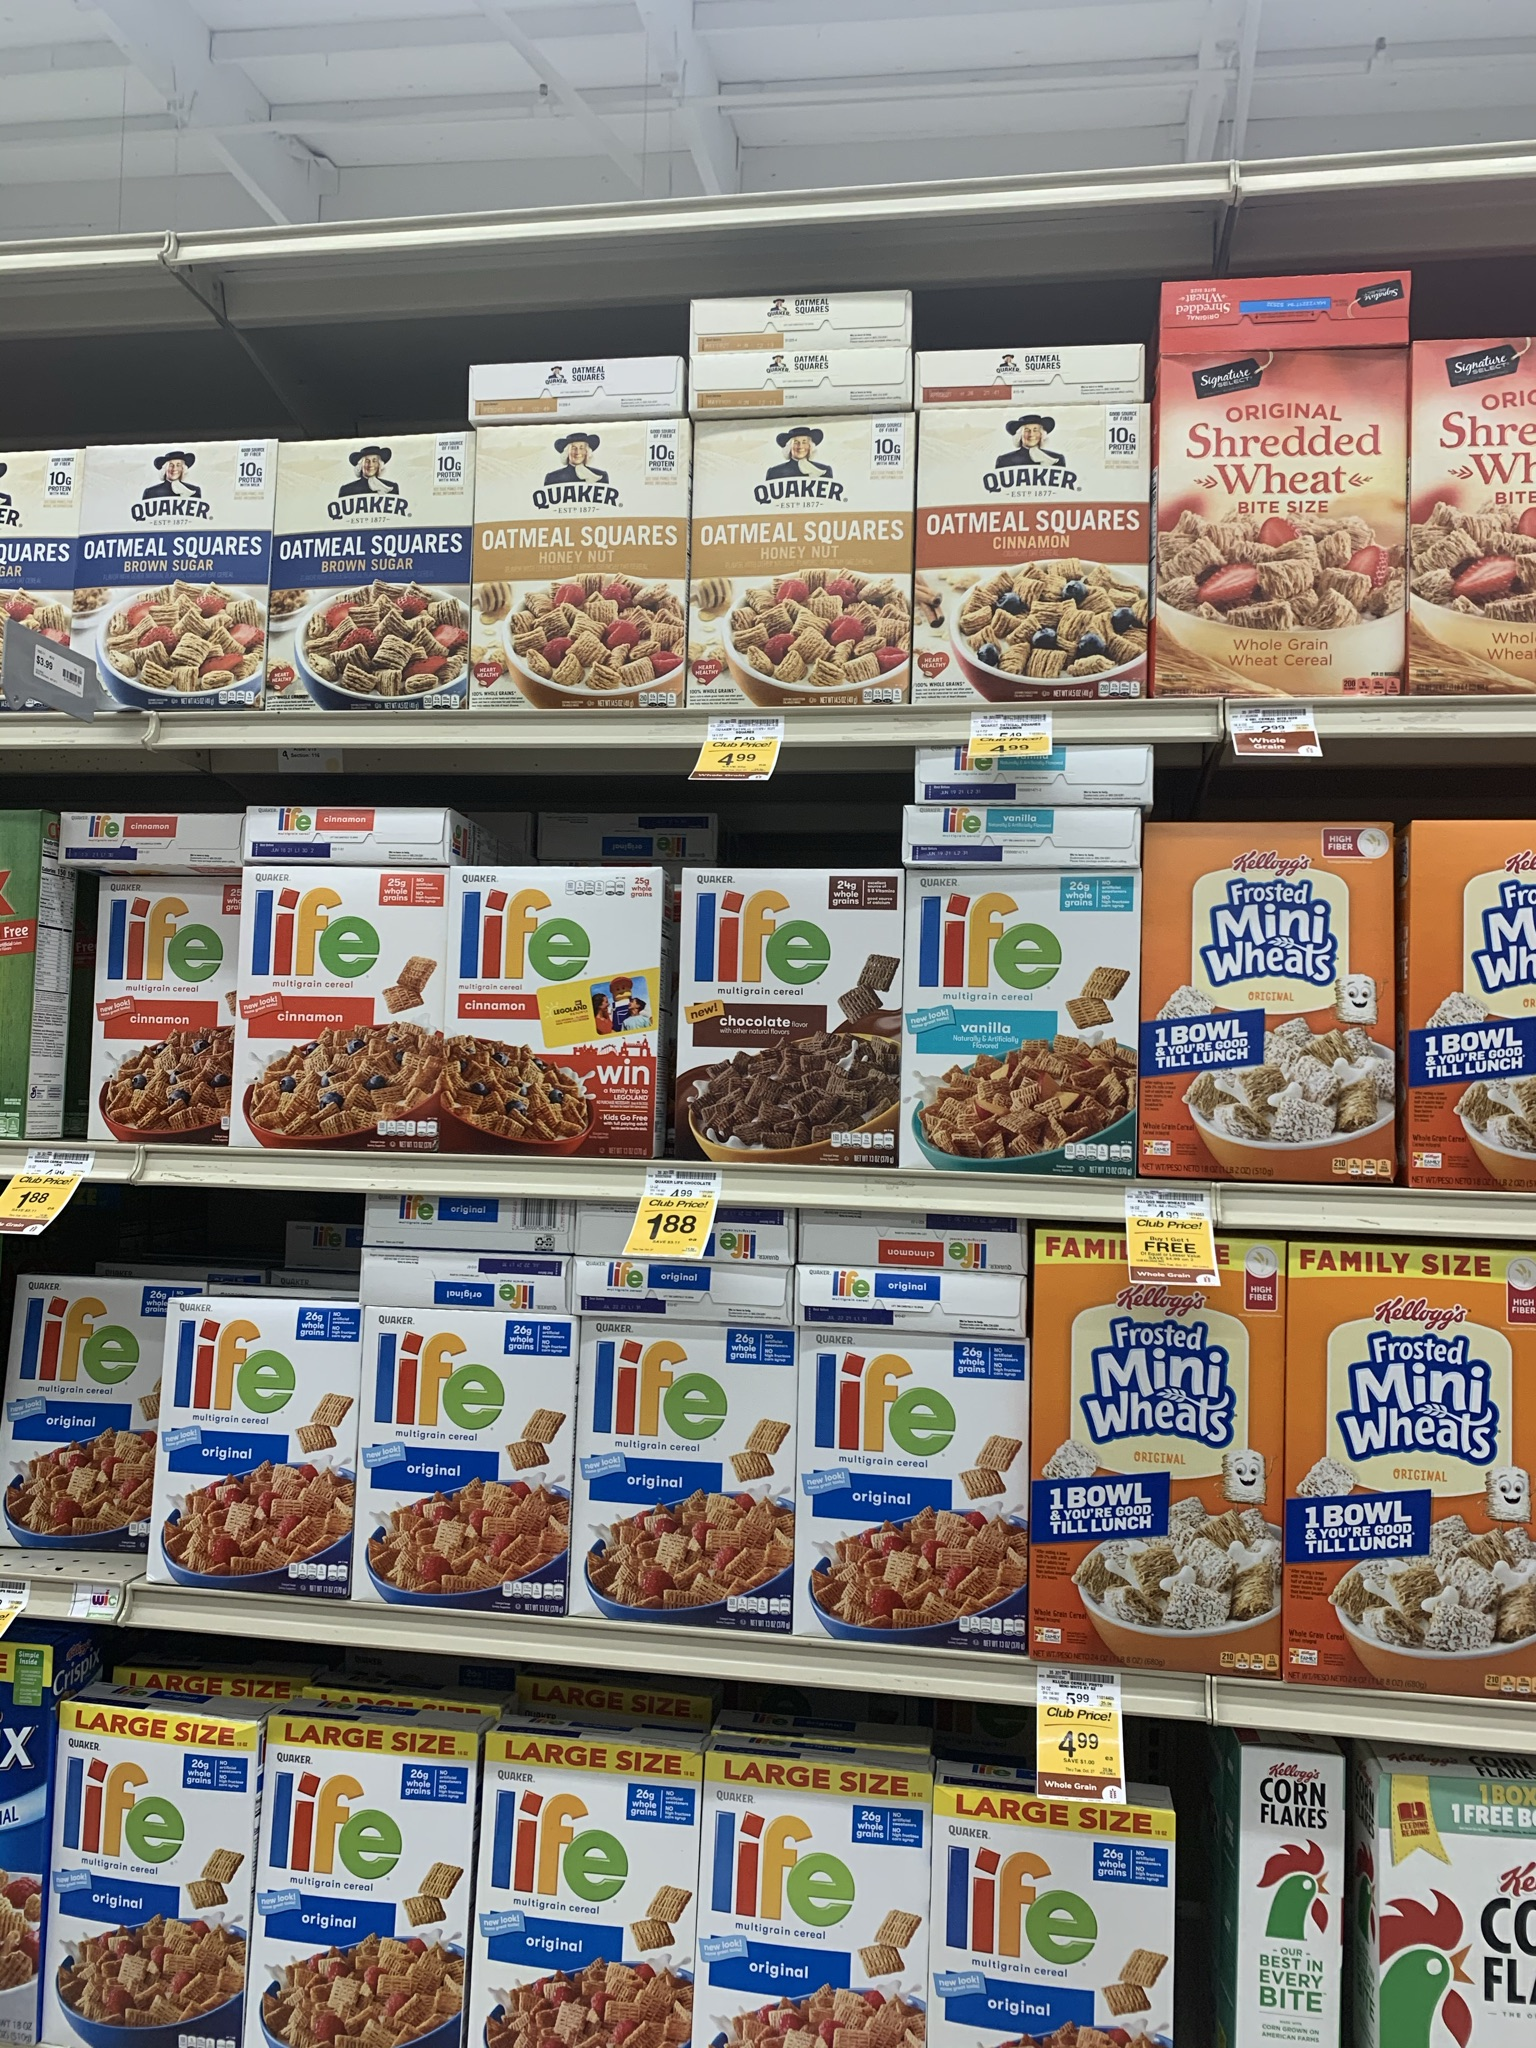cereal: (1034, 1230, 1283, 1680), (1291, 1247, 1536, 1696), (1146, 819, 1409, 1185), (895, 864, 1134, 1180), (808, 1332, 1028, 1659), (52, 1693, 248, 2048), (487, 1727, 700, 2048), (678, 868, 904, 1161), (936, 1779, 1179, 2048), (715, 1743, 928, 2048), (587, 1326, 795, 1634), (360, 1309, 565, 1621), (266, 1716, 453, 2048), (245, 868, 442, 1151), (445, 874, 652, 1143), (165, 1308, 353, 1600), (1399, 821, 1536, 1185), (15, 1271, 161, 1567), (1226, 1753, 1333, 2048)
